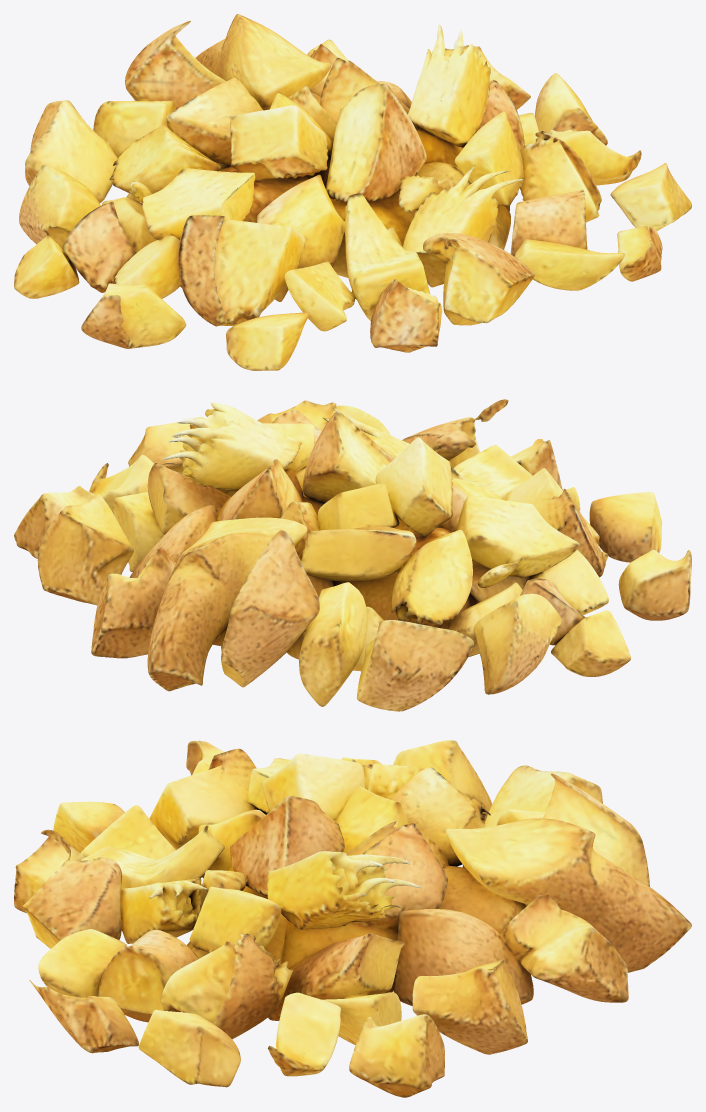
File: lod_basic_shaded.fbx
3 renders of one model, top to bottom at view 1: azimuth 30°, elevation 25°; view 2: azimuth 150°, elevation 25°; view 3: azimuth 270°, elevation 25°, orthographic. The views are drawn at different scales.
Visible parts, largest first — view 1: model_LOD0; view 2: model_LOD0; view 3: model_LOD0.
Boxes of the visible parts, x1,y1,x2,y2 form: model_LOD0: (14,14,691,370); model_LOD0: (14,399,691,711); model_LOD0: (14,740,691,1097).
Size of what is drawn, in the model's own units: 190 by 51.36 by 177.
